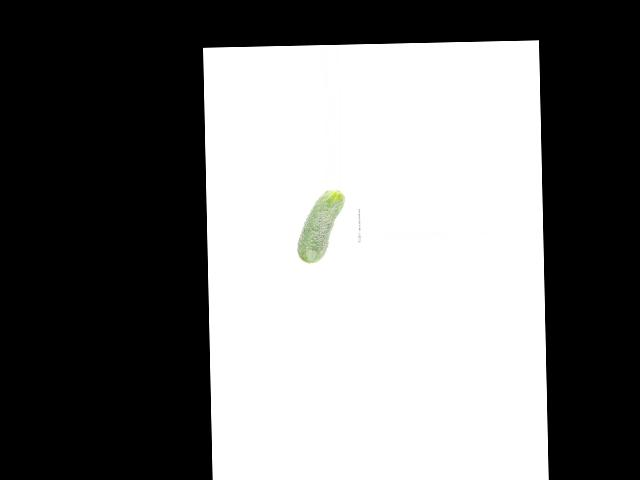cucumber: (296, 190, 346, 264)
